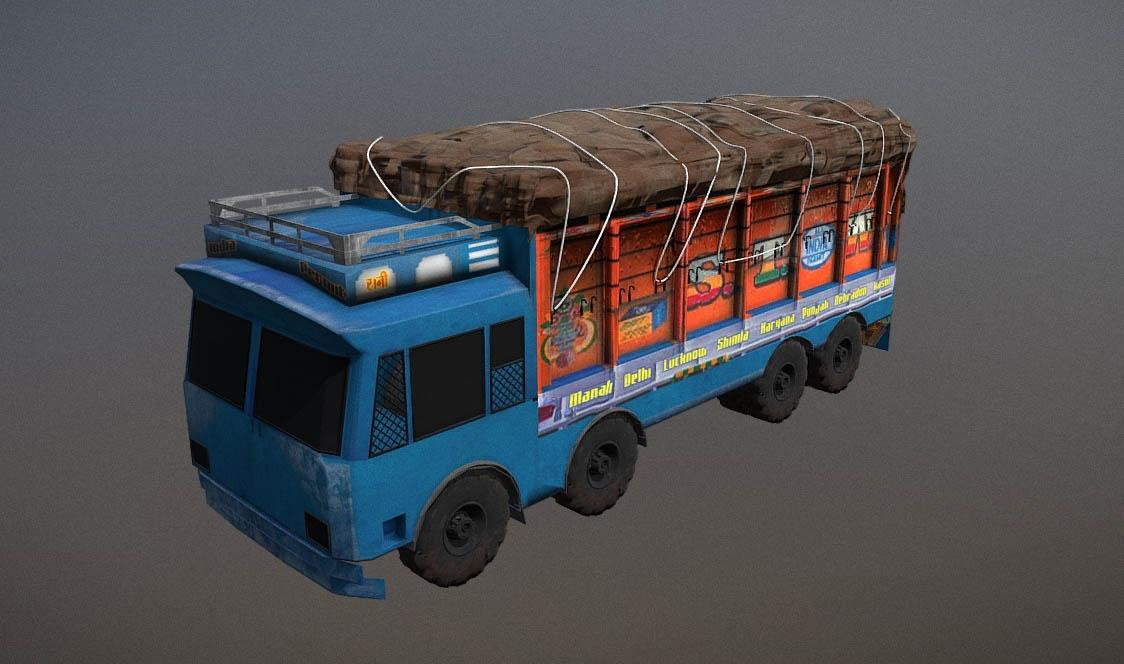truck: (158, 103, 917, 562)
